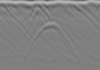hyperbola: (27, 20, 81, 59)
